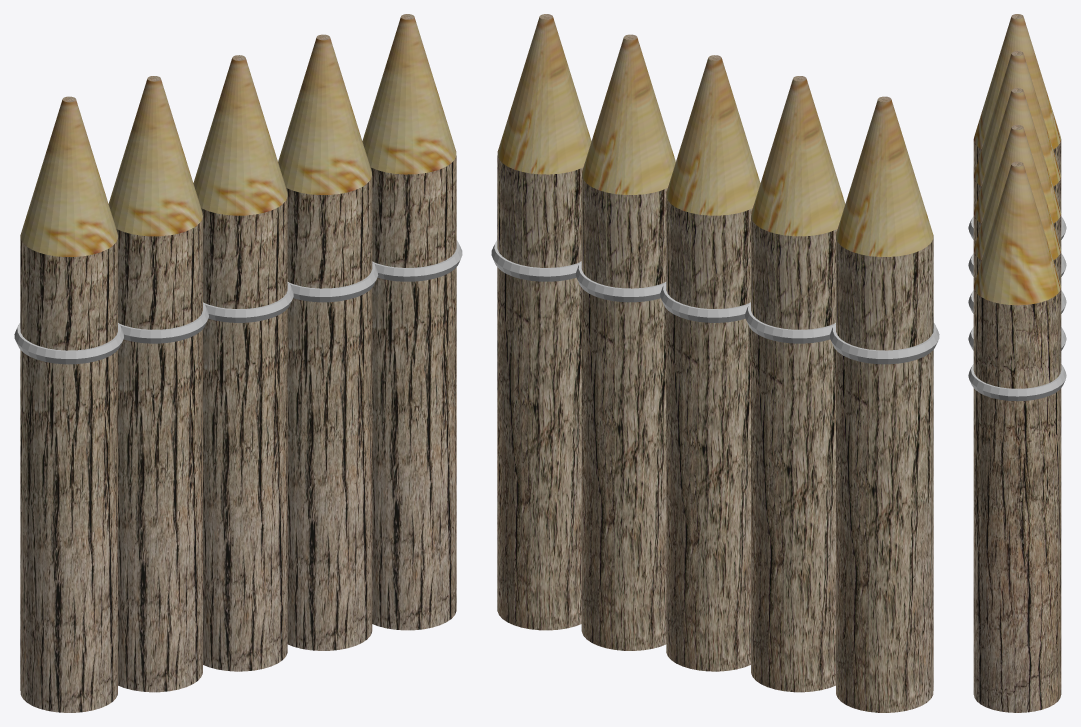
The model's file is aita.fbx.
The picture shows the model from 3 angles, left to right: view 1: azimuth 30°, elevation 25°; view 2: azimuth 150°, elevation 25°; view 3: azimuth 270°, elevation 25°; orthographic projection. The views are drawn at different scales.
Parts seen in each view (by area): view 1: Cylinder.004, Cylinder.001, Cylinder.003, Cylinder.002, Cylinder; view 2: Cylinder.004, Cylinder.001, Cylinder.003, Cylinder.002, Cylinder; view 3: Cylinder, Cylinder.003, Cylinder.004, Cylinder.002, Cylinder.001.
Part boxes in pixels (x1,y1,x2,y2): Cylinder.004: (14, 96, 123, 712); Cylinder.001: (278, 34, 378, 650); Cylinder.003: (108, 76, 208, 692); Cylinder.002: (193, 55, 293, 671); Cylinder: (362, 14, 462, 630); Cylinder.004: (830, 96, 939, 712); Cylinder.001: (575, 34, 675, 650); Cylinder.003: (745, 76, 845, 692); Cylinder.002: (660, 55, 760, 671); Cylinder: (491, 14, 591, 630); Cylinder: (968, 161, 1066, 712); Cylinder.003: (968, 51, 1066, 276); Cylinder.004: (968, 14, 1066, 239); Cylinder.002: (968, 88, 1066, 313); Cylinder.001: (968, 125, 1066, 350).
Bounding box in the file's own units: 133 × 174 × 29.17.
